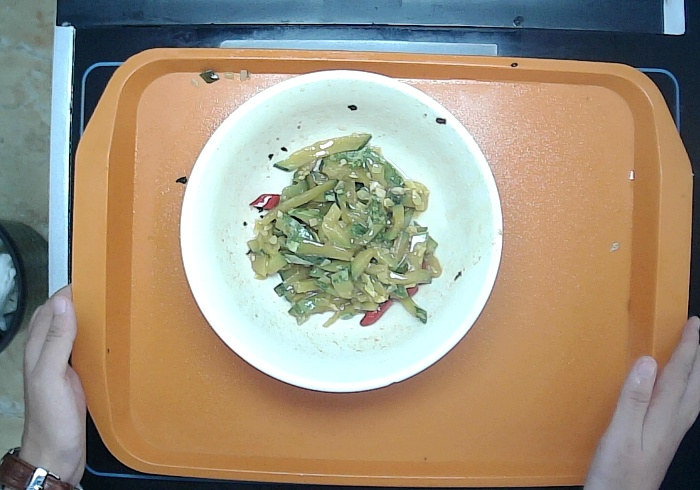ZNLD-Da_Tang_Wan: (178, 67, 504, 395)
